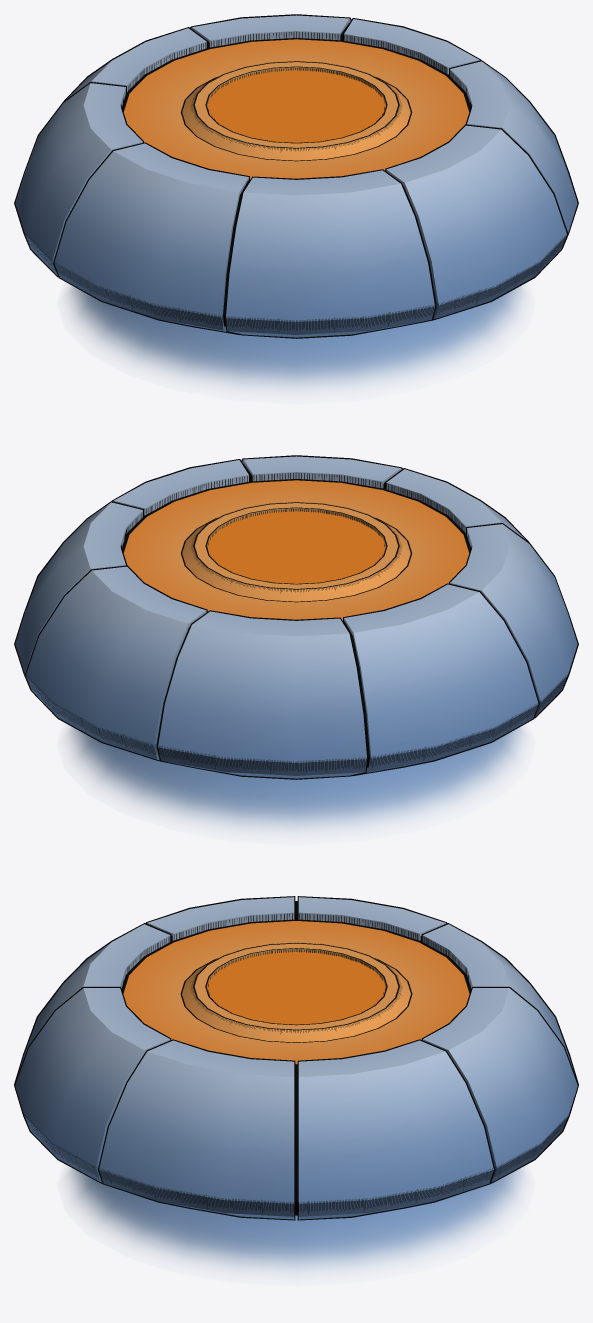
Rendered from Platform_03.glb.
3 views of the same model, one above another, from view 1: azimuth 30°, elevation 25°; view 2: azimuth 150°, elevation 25°; view 3: azimuth 270°, elevation 25° (orthographic).
Visible parts, largest first — view 1: Platform_03; view 2: Platform_03; view 3: Platform_03.
Part boxes in pixels (x1,y1,x2,y2): Platform_03: (14, 14, 578, 393); Platform_03: (14, 455, 578, 834); Platform_03: (14, 896, 578, 1276).
Size of the model in its own units: 4 by 1.68 by 4.
3 materials, 2 textured.
